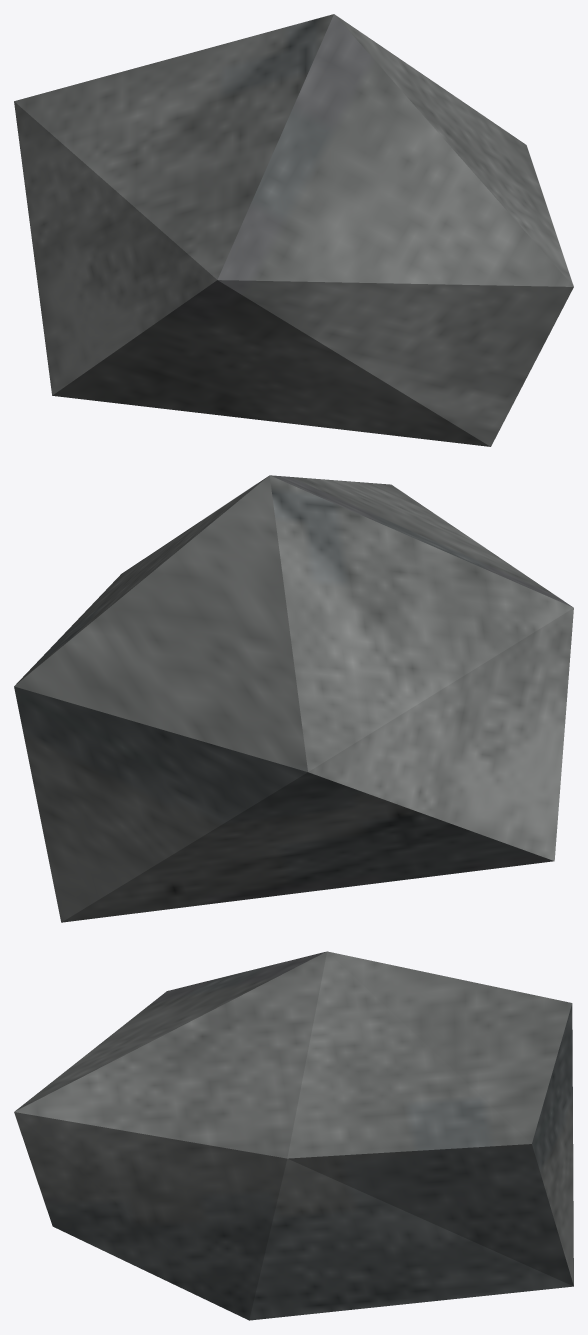
File: Medium Rock.fbx
3 views of the same model, one above another, from view 1: azimuth 30°, elevation 25°; view 2: azimuth 150°, elevation 25°; view 3: azimuth 270°, elevation 25° (orthographic). The views are drawn at different scales.
Visible parts, largest first — view 1: Medium_Rock; view 2: Medium_Rock; view 3: Medium_Rock.
Part boxes in pixels (bbox=[...]): Medium_Rock: bbox=[14, 14, 573, 446]; Medium_Rock: bbox=[14, 475, 573, 922]; Medium_Rock: bbox=[14, 951, 573, 1320].
Size of the model in its own units: 88.38 by 66.27 by 109.
